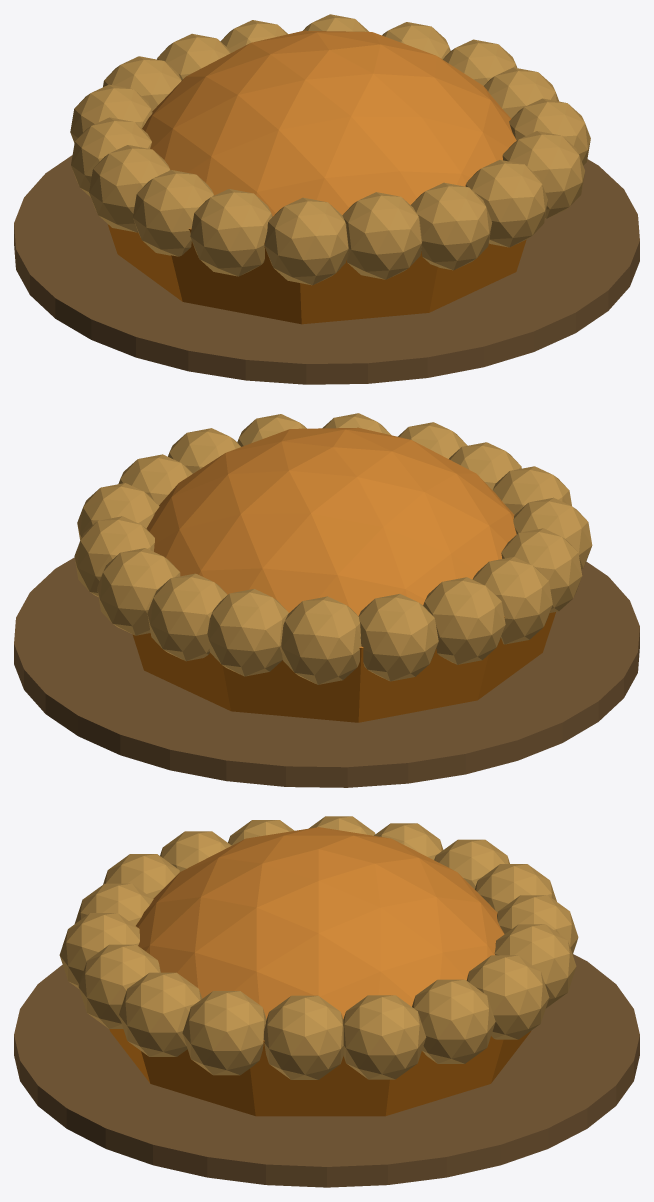
File: pumpkin_pie.fbx
3 renders of one model, top to bottom at view 1: azimuth 30°, elevation 25°; view 2: azimuth 150°, elevation 25°; view 3: azimuth 270°, elevation 25°, orthographic.
Visible parts, largest first — view 1: Icosphere.495; view 2: Icosphere.495; view 3: Icosphere.495.
Part boxes in pixels (<box>): Icosphere.495: <box>14,14,639,384</box>; Icosphere.495: <box>14,413,639,787</box>; Icosphere.495: <box>14,816,639,1187</box>.
Bounding box in the file's own units: 7613 × 2756 × 7613.
